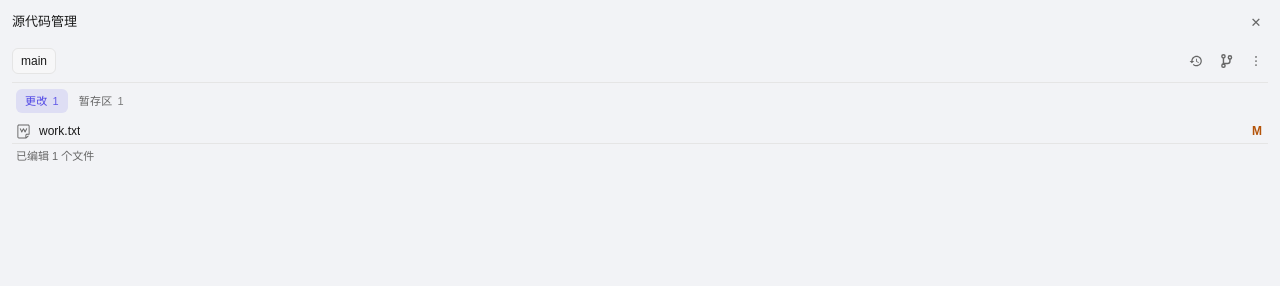
Test case: 暂存区非空：提交区出现在暂存 tab 下，提示在左、提交按钮在行尾
Click the tab with class "git-tab" showing "暂存区 1" at (101, 101), box [70, 89, 133, 113]
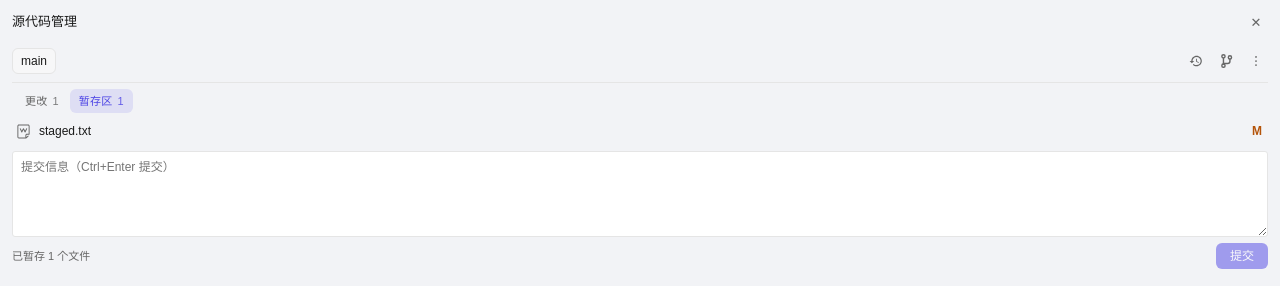
Expected: the element with class "git-commit-row" is shown, [12, 243, 1268, 269]
Expected: the text "已暂存 1 个文件" is shown, [12, 248, 90, 264]
Expected: the button "提交" is shown, [1216, 243, 1268, 269]
